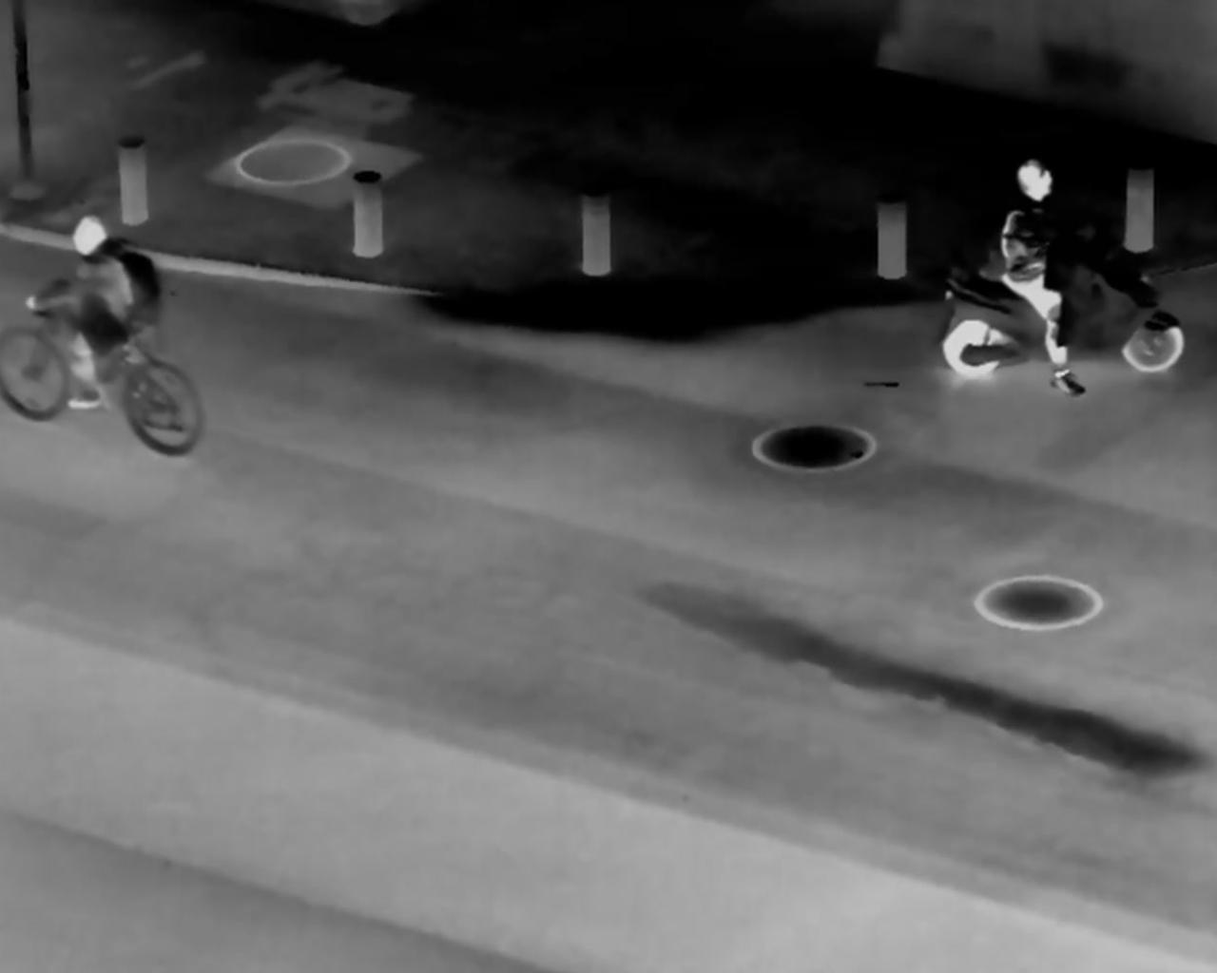person: (26, 217, 171, 409), (992, 153, 1087, 400)
